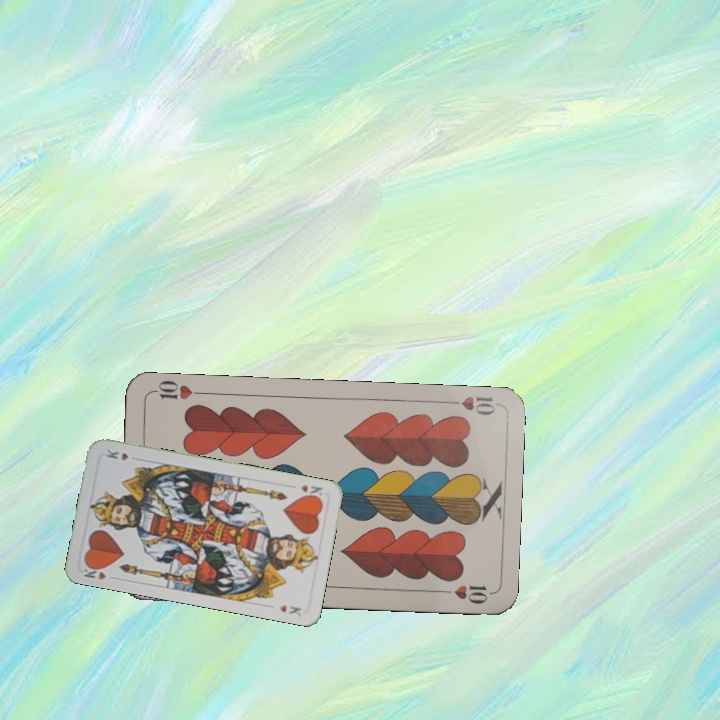H10: (440, 392, 497, 418)
HK: (80, 560, 119, 583), (297, 480, 325, 502)
